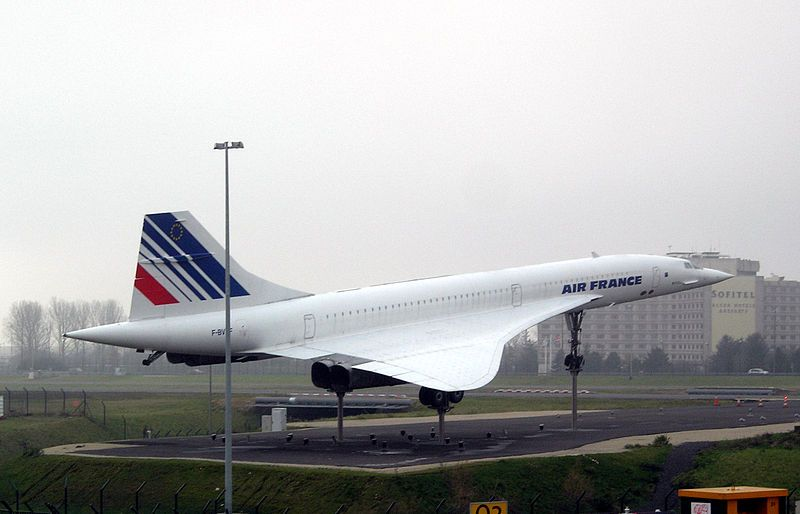Aeronef_commercial: (54, 198, 741, 413)
